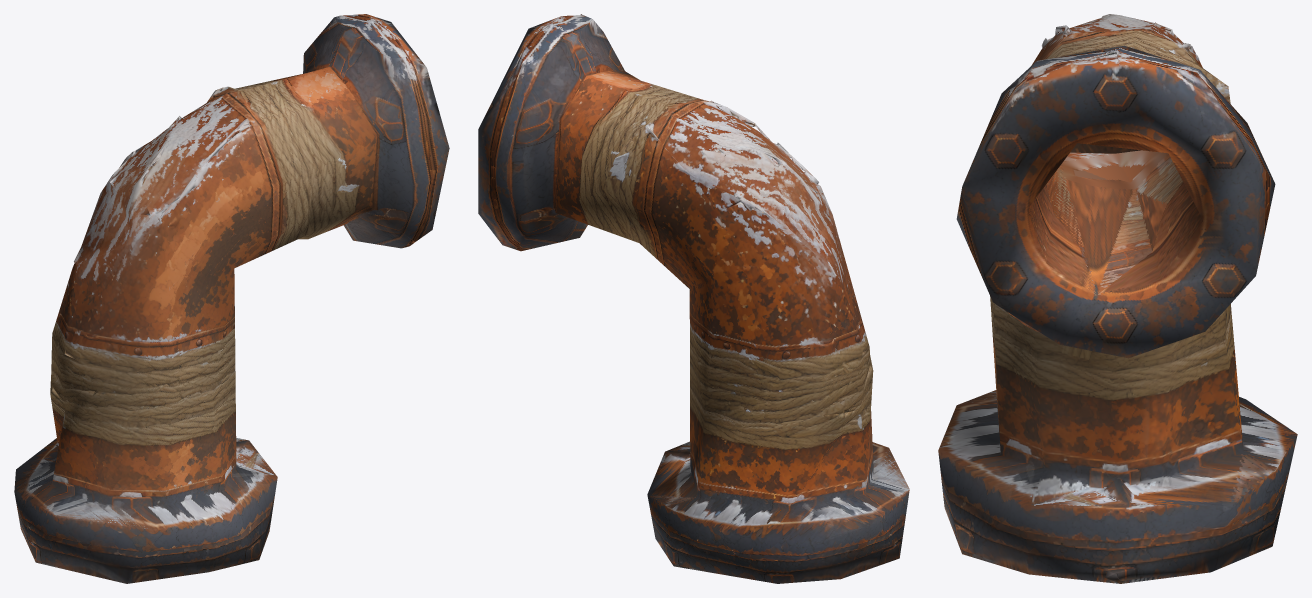
Rendered from PR_SteamPipeElbow.fbx.
The picture shows the model from 3 angles, left to right: view 1: azimuth 30°, elevation 25°; view 2: azimuth 150°, elevation 25°; view 3: azimuth 270°, elevation 25°; orthographic projection. The views are drawn at different scales.
Visible parts, largest first — view 1: texture_mapping; view 2: texture_mapping; view 3: texture_mapping.
Part boxes in pixels (x1,y1,x2,y2): texture_mapping: (14, 14, 449, 583); texture_mapping: (478, 14, 909, 583); texture_mapping: (938, 14, 1297, 583).
Size of the model in its own units: 0.828 by 0.5253 by 0.9924.
1 material, 1 textured.
